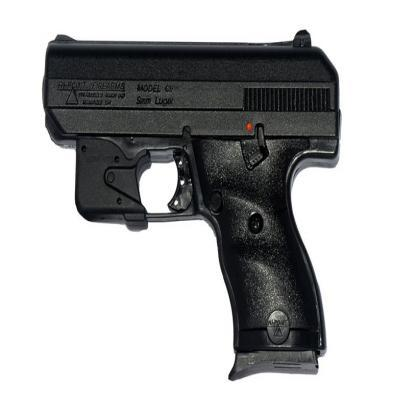Pistol: (34, 22, 344, 382)
